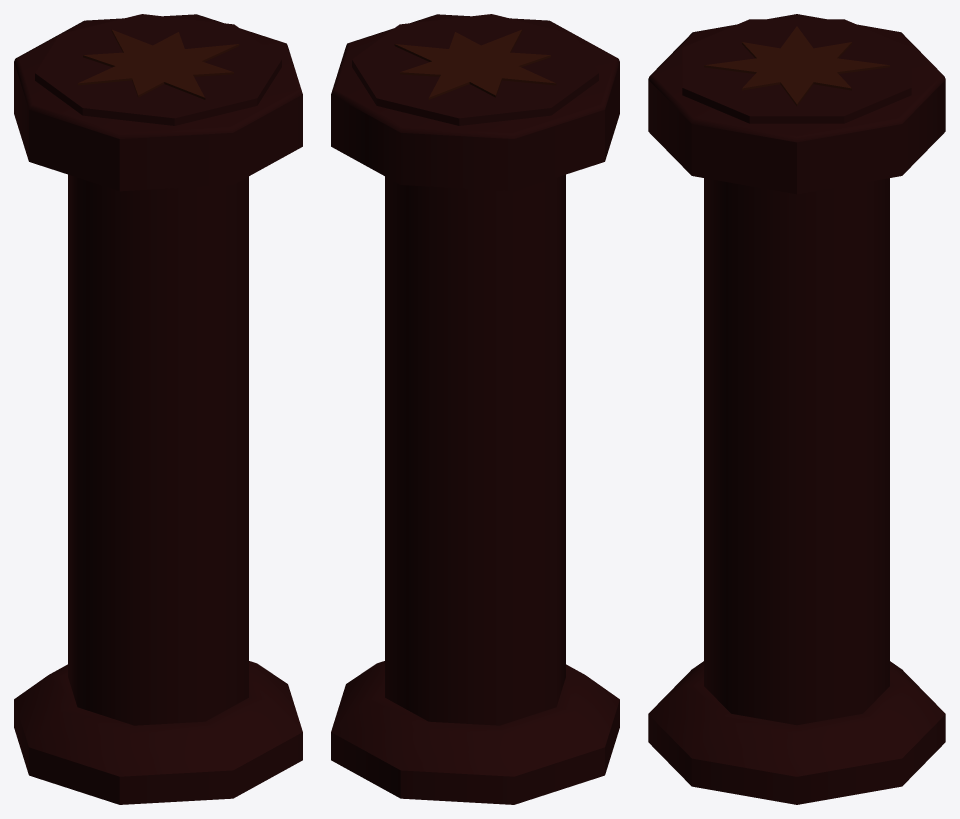
File: SM_Compass.fbx
3 renders of one model, left to right at view 1: azimuth 30°, elevation 25°; view 2: azimuth 150°, elevation 25°; view 3: azimuth 270°, elevation 25°, orthographic.
Visible parts, largest first — view 1: SM_Compass, SM_Compass_Directions; view 2: SM_Compass, SM_Compass_Directions; view 3: SM_Compass, SM_Compass_Directions.
Boxes of the visible parts, x1=… form: SM_Compass: x1=14, y1=14, x2=302, y2=804; SM_Compass_Directions: x1=77, y1=29, x2=239, y2=99; SM_Compass: x1=331, y1=14, x2=619, y2=804; SM_Compass_Directions: x1=394, y1=29, x2=556, y2=99; SM_Compass: x1=648, y1=14, x2=945, y2=804; SM_Compass_Directions: x1=704, y1=26, x2=889, y2=105.
Bounding box in the file's own units: 48 × 120 × 48.
